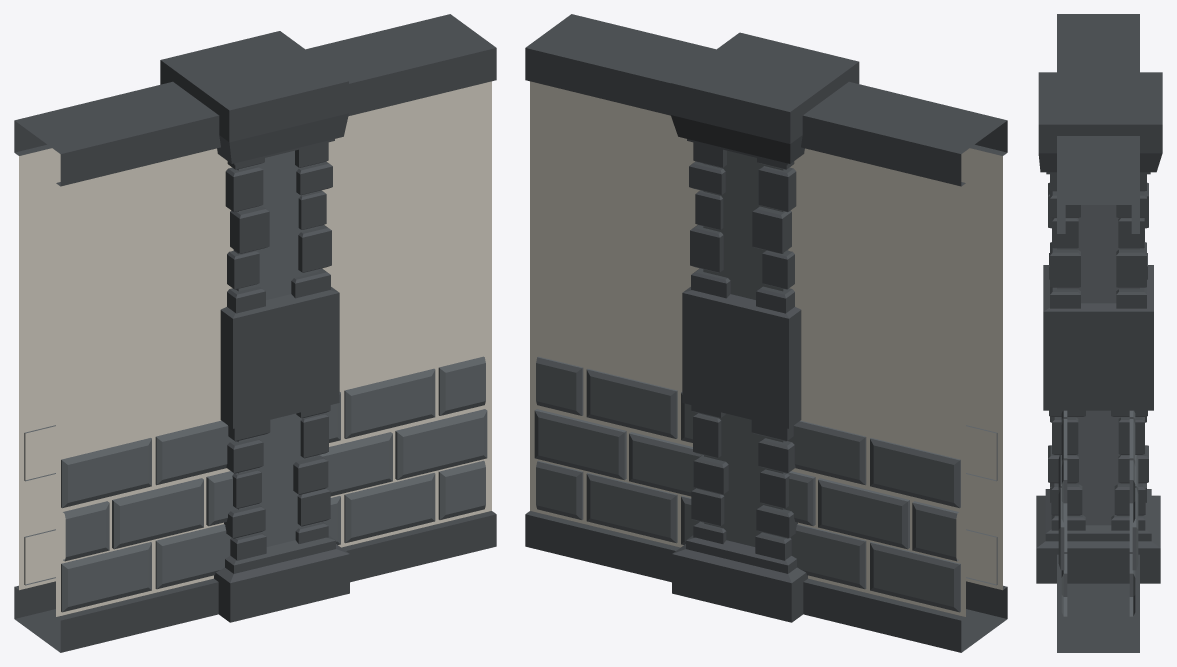
The model's file is rampart.fbx.
3 renders of one model, left to right at view 1: azimuth 30°, elevation 25°; view 2: azimuth 150°, elevation 25°; view 3: azimuth 270°, elevation 25°, orthographic. The views are drawn at different scales.
Parts seen in each view (by area): view 1: Cube.001, Cube.003; view 2: Cube.001, Cube.003; view 3: Cube.003, Cube.001.
Part boxes in pixels (<box>): Cube.001: <box>14,14,496,652</box>; Cube.003: <box>160,31,349,622</box>; Cube.001: <box>525,14,1007,652</box>; Cube.003: <box>670,32,859,622</box>; Cube.003: <box>1036,72,1162,583</box>; Cube.001: <box>1057,14,1139,652</box>.
Size of the model in its own units: 497 by 557 by 139.
Materials: 1 (1 with a texture image).
